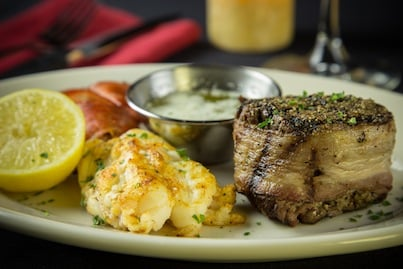pizza: (204, 0, 298, 55)
sushi: (125, 64, 283, 164), (0, 88, 86, 195)
